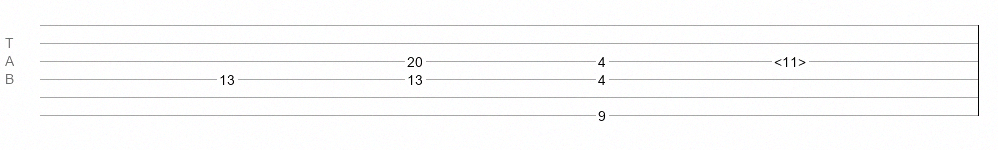13: (219, 72, 235, 82), (407, 72, 423, 82)
20: (407, 54, 423, 64)
4: (598, 72, 606, 82), (598, 54, 606, 64)
9: (598, 108, 606, 118)
harmonic: (774, 54, 806, 64)
